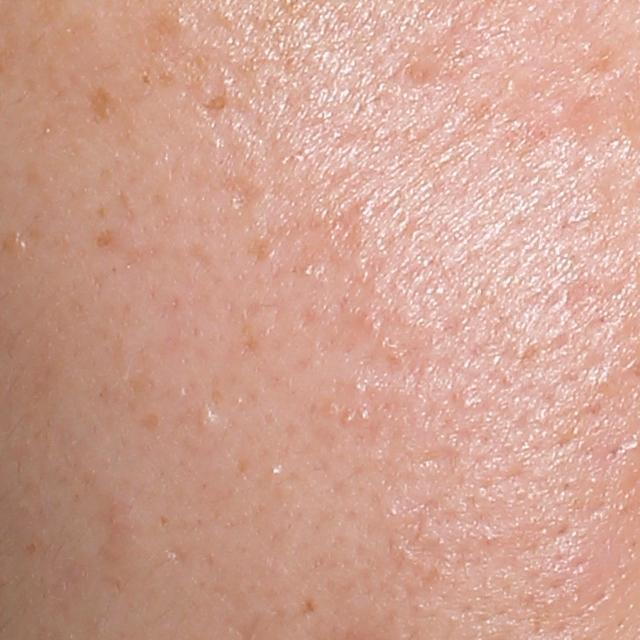atrophic_scar: (209, 174, 272, 267), (400, 44, 448, 92), (164, 547, 190, 565)
comedo: (197, 400, 216, 430)
melasma: (92, 225, 164, 263), (84, 88, 126, 135)
